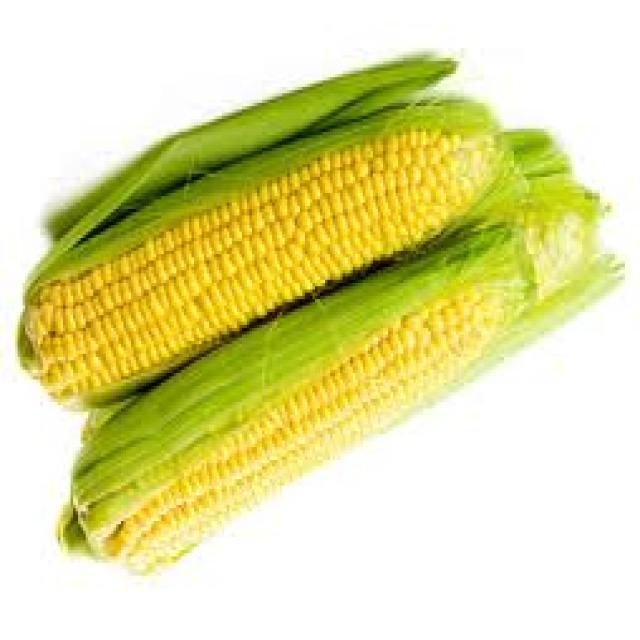Corn: (8, 58, 636, 598)
